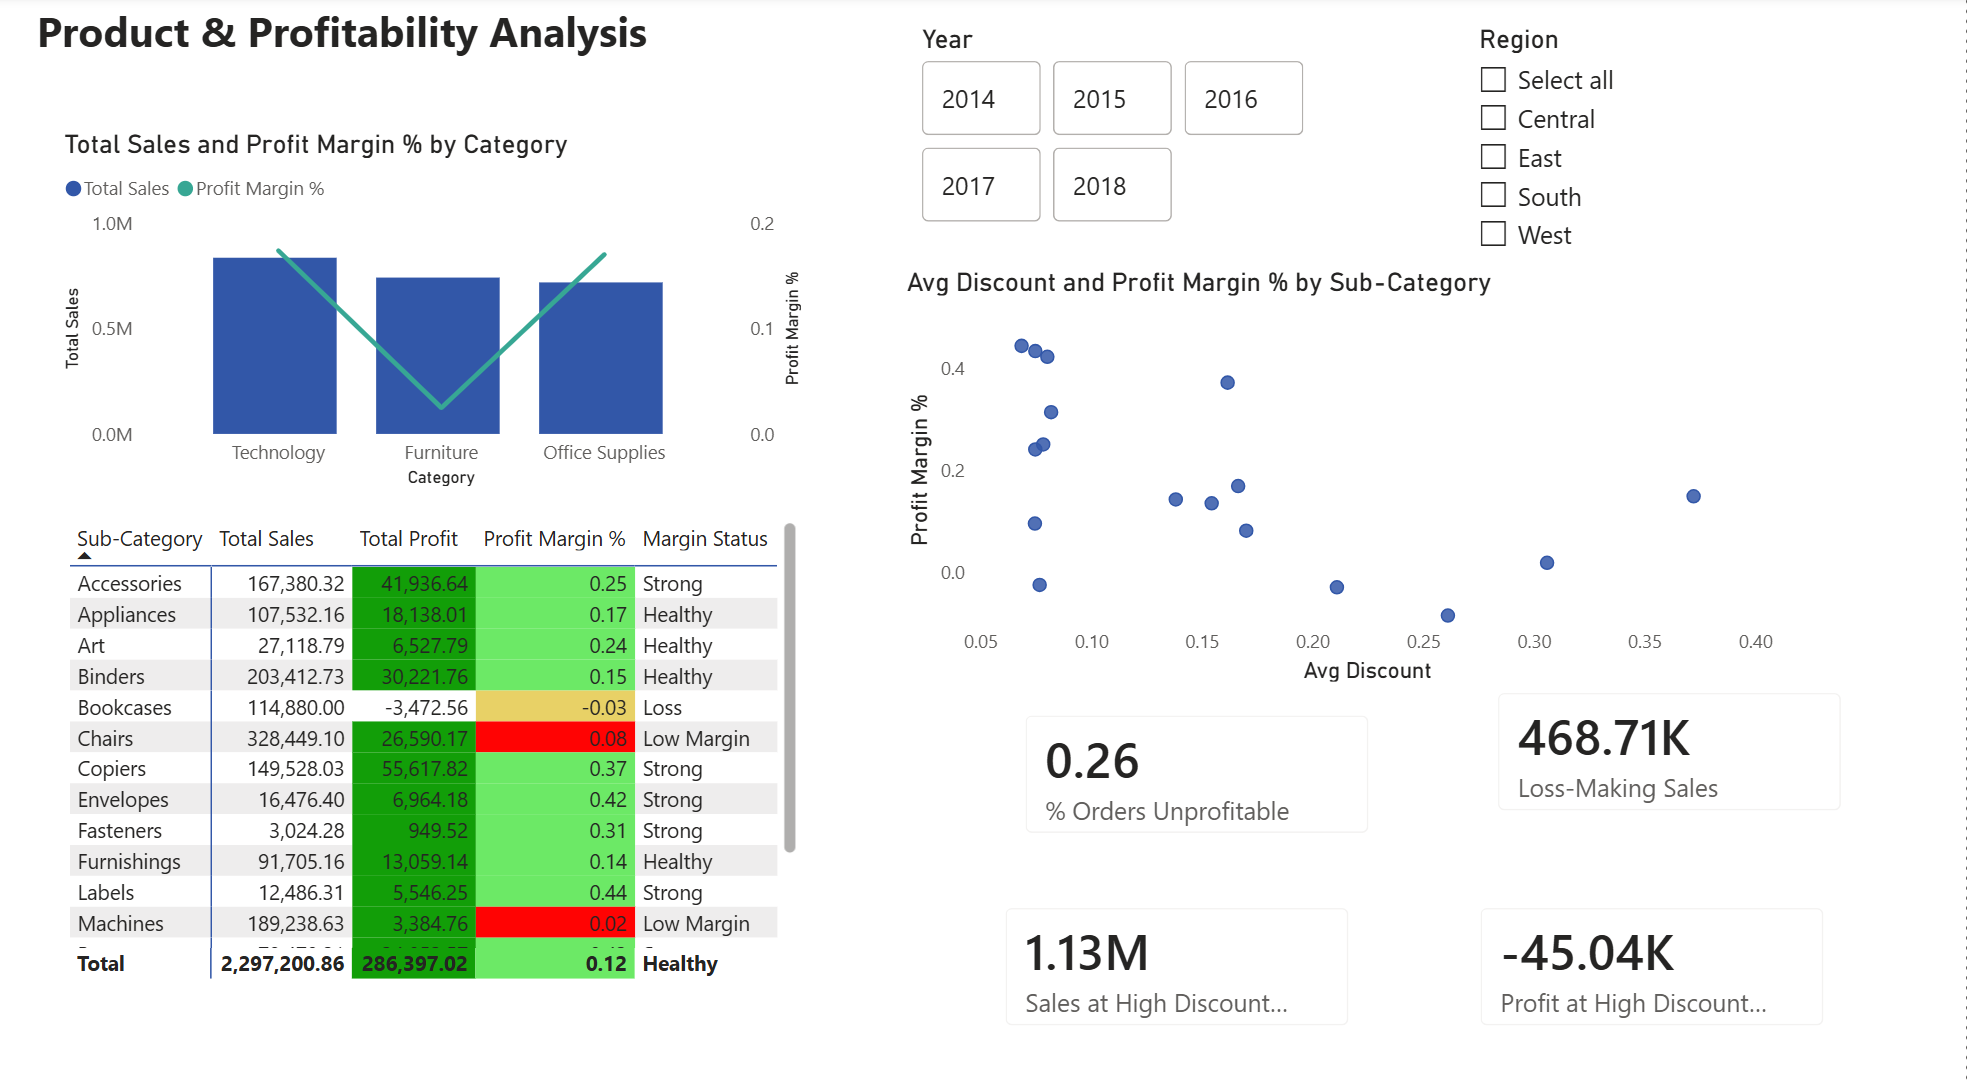

The page's visual inventory and layout, read from the dashboard file:
{"tool":"powerbi","page":{"name":"Product Analysis","canvas":[1280,720],"ordinal":1},"visuals":[{"type":"listSlicer","fields":{"Values":["Sample - Superstore.Region"]},"box":[959.4,18.8,246.4,153.6],"z":0},{"type":"advancedSlicerVisual","fields":{"Values":["Date.Year"]},"box":[598.6,18.8,259.4,134.8],"z":1000},{"type":"lineClusteredColumnComboChart","fields":{"Y":["Date.Total Sales"],"Y2":["Date.Profit Margin %"],"Category":["Sample - Superstore.Category"]},"box":[43.5,87,487,236.2],"z":2000},{"type":"scatterChart","fields":{"Category":["Sample - Superstore.Sub-Category"],"X":["Date.Avg Discount"],"Y":["Date.Profit Margin %"]},"box":[589.9,176.8,571,273.9],"z":3000},{"type":"pivotTable","fields":{"Rows":["Sample - Superstore.Sub-Category"],"Values":["Date.Total Sales","Date.Total Profit","Date.Profit Margin %","Date.Margin Status"]},"box":[46.4,336.2,481.2,305.8],"z":4000},{"type":"cardVisual","fields":{"Data":["Date.% Orders Unprofitable"]},"box":[653.6,450.7,256.5,110.1],"z":5000},{"type":"cardVisual","fields":{"Data":["Date.Sales at High Discount (20%+)"]},"box":[640.6,575.4,256.5,110.1],"z":6000},{"type":"cardVisual","fields":{"Data":["Date.Profit at High Discount (20%+)"]},"box":[949.3,575.4,256,110],"z":7000},{"type":"cardVisual","fields":{"Data":["Date.Loss-Making Sales"]},"box":[959.4,436.2,256,110],"z":8000},{"type":"textbox","box":[26.1,0,414.5,58],"z":9000}]}

Visuals, with their boxes in screenshot pixels (x1, y1, x2, y2), scaled from the page's 1280x720 canvas onto the 1967x1080 screenshot:
listSlicer - Sample - Superstore.Region: select_region(1474, 28, 1853, 259)
advancedSlicerVisual - Date.Year: select_region(920, 28, 1319, 230)
lineClusteredColumnComboChart - Date.Total Sales x Date.Profit Margin %: select_region(67, 130, 815, 485)
scatterChart - Sample - Superstore.Sub-Category x Date.Avg Discount: select_region(907, 265, 1784, 676)
pivotTable - Sample - Superstore.Sub-Category x Date.Total Sales: select_region(71, 504, 811, 963)
cardVisual - Date.% Orders Unprofitable: select_region(1004, 676, 1399, 841)
cardVisual - Date.Sales at High Discount (20%+): select_region(984, 863, 1379, 1028)
cardVisual - Date.Profit at High Discount (20%+): select_region(1459, 863, 1852, 1028)
cardVisual - Date.Loss-Making Sales: select_region(1474, 654, 1868, 819)
textbox: select_region(40, 0, 677, 87)
